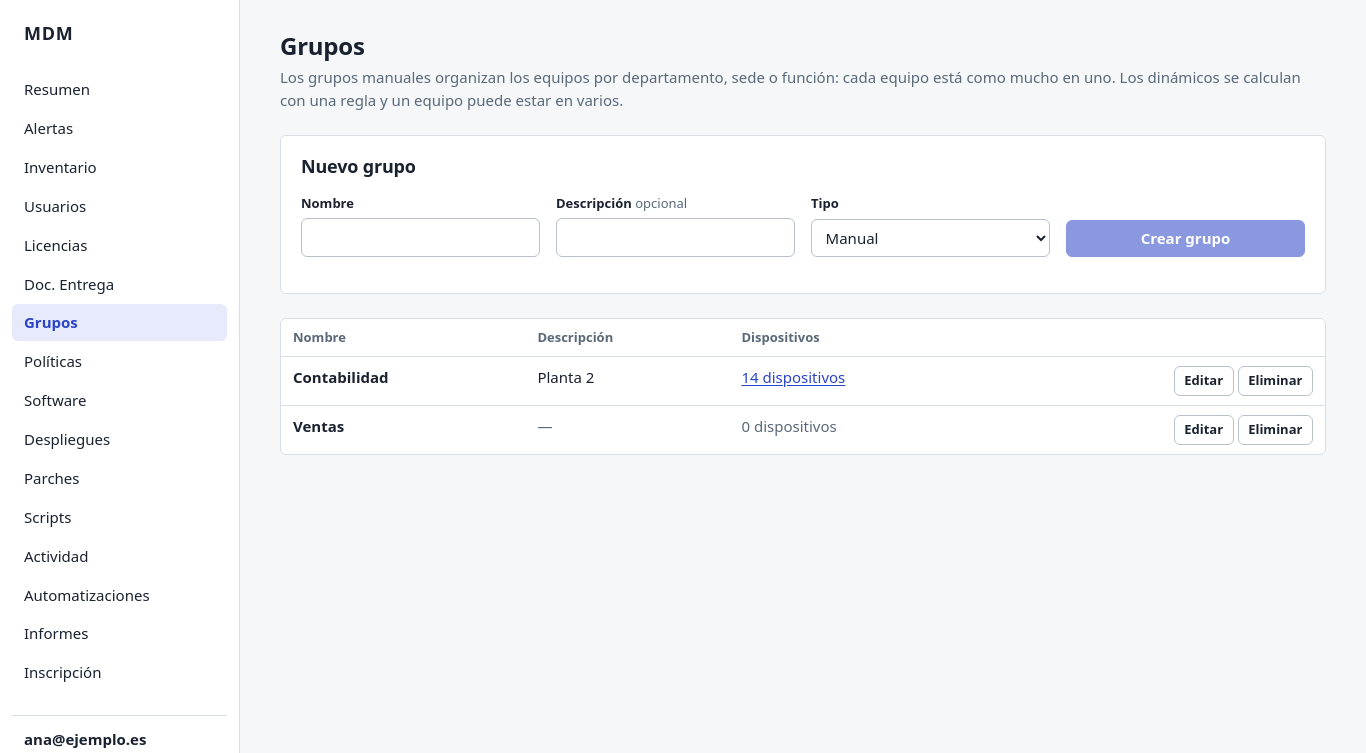
Test: Grupos › crear un grupo con nombre repetido muestra «Ya existe un grupo con ese nombre.»
Type "ventas" into the field labelled "Nombre" at [420, 238], box [301,218,540,257]
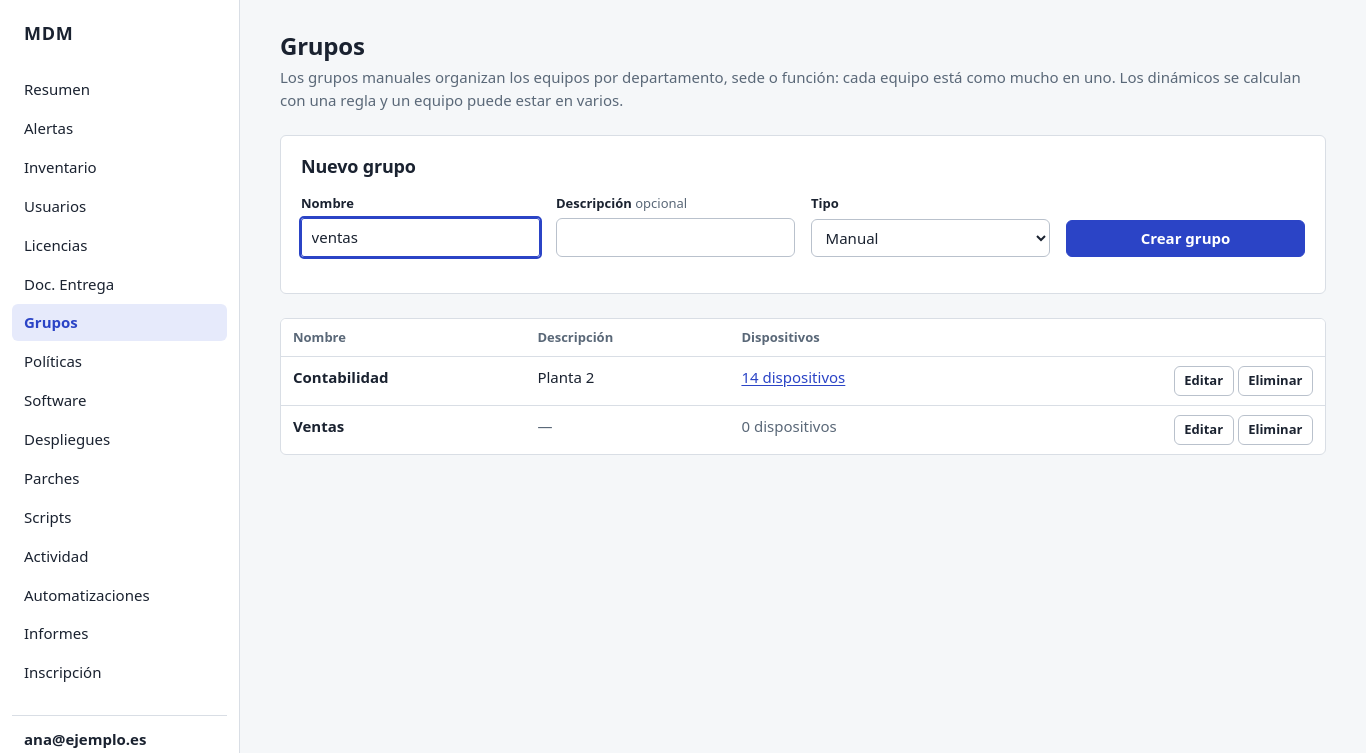
Click the button "Crear grupo" at [1186, 239], box [1066,220,1305,257]
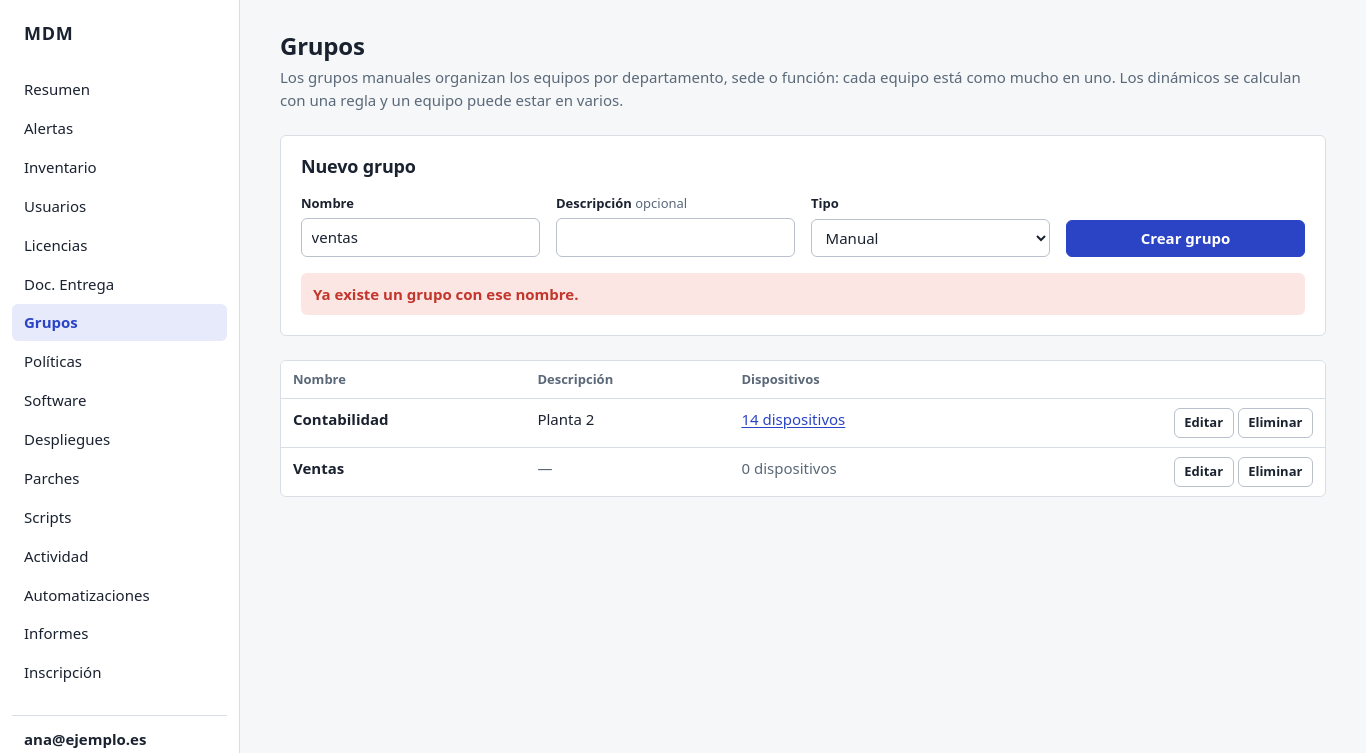
Result: the message reads "Ya existe un grupo con ese nombre." at [313,284,578,304]
